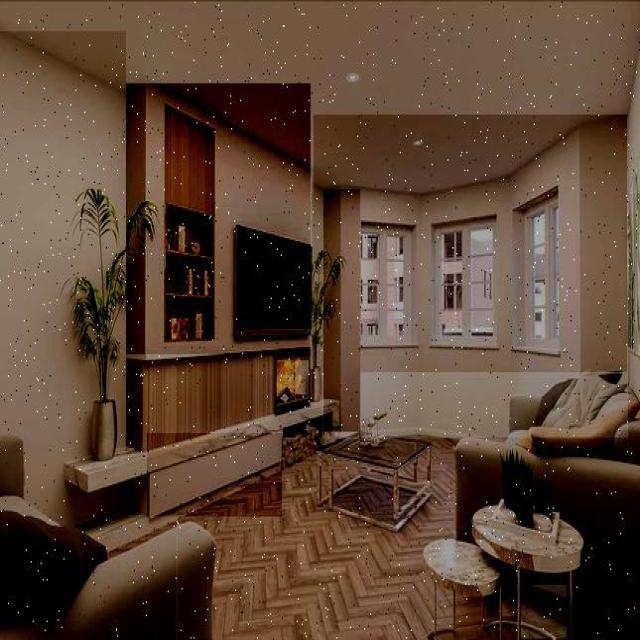Wall: (0, 1, 640, 193), (324, 119, 628, 438), (314, 116, 627, 372), (0, 32, 126, 524), (177, 440, 454, 639), (179, 440, 454, 639), (126, 84, 311, 360), (126, 355, 275, 449), (147, 433, 282, 516), (324, 190, 360, 432), (522, 587, 567, 639), (574, 607, 640, 639), (110, 314, 126, 445), (457, 598, 484, 637), (503, 581, 515, 616), (486, 597, 497, 618), (336, 473, 348, 485)
